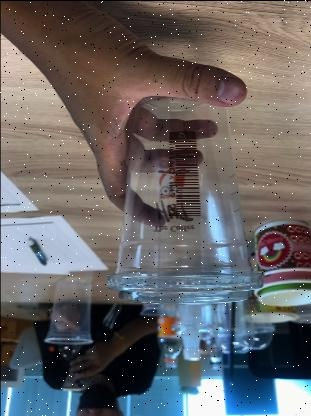Others: (108, 89, 264, 306)
